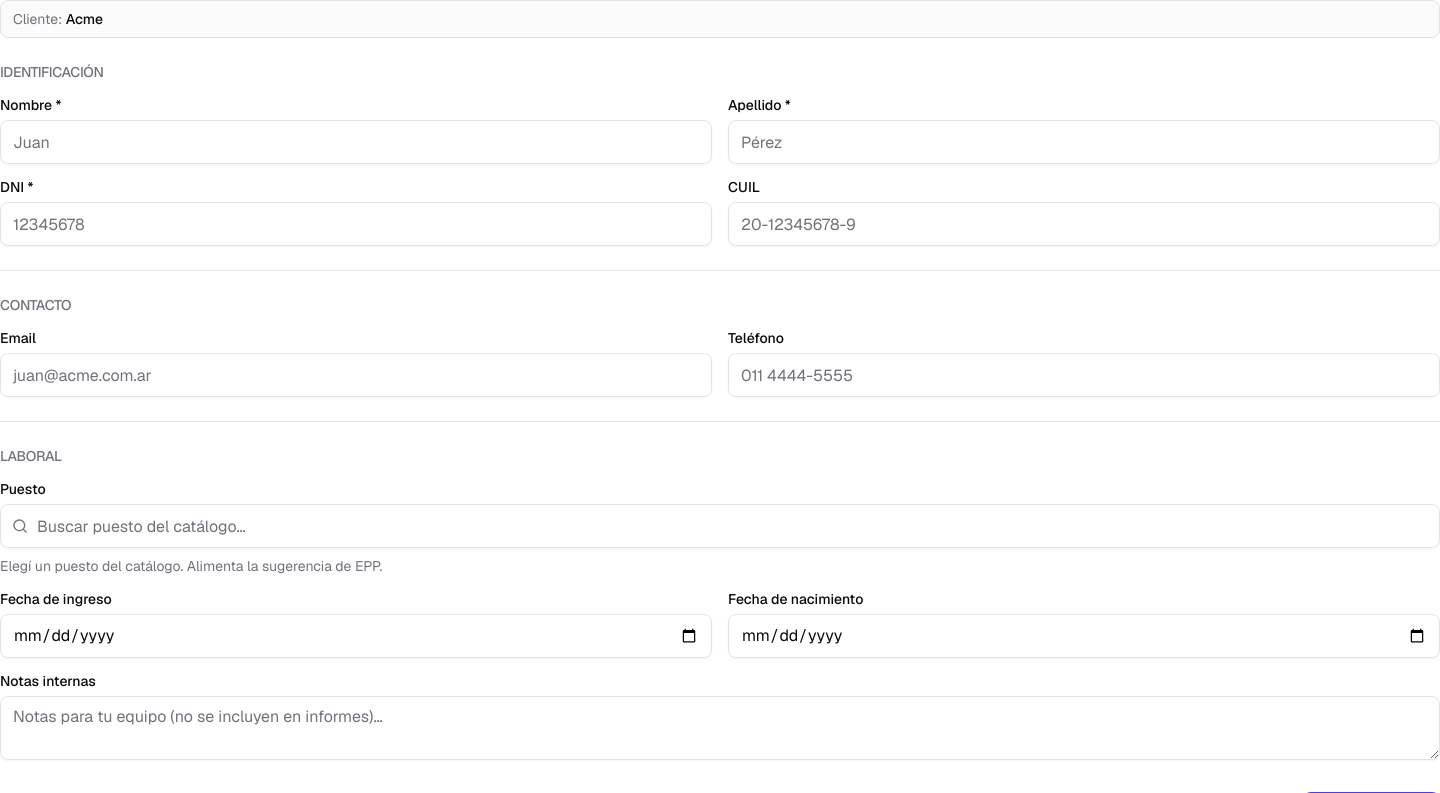
Test: EmpleadoForm · selector de puesto (T-128) › 4. canCrearPuesto=false → no aparece "Crear puesto nuevo"
The image size is (1440, 793).
Type "S" into the search field labelled "Buscar puesto" at (720, 526), box [0, 504, 1439, 548]
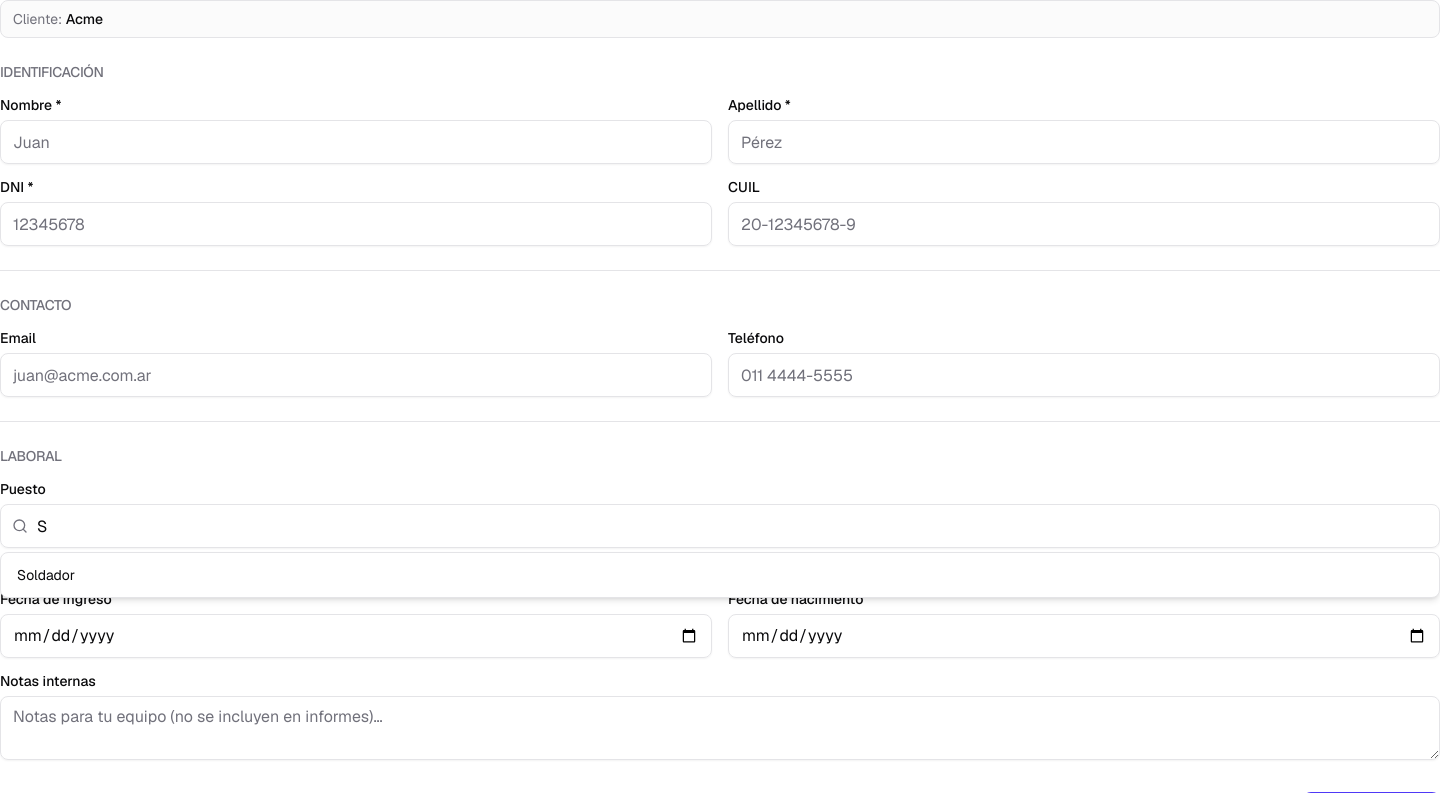
Check: the button "Soldador" is shown, box [1, 557, 1439, 593]
